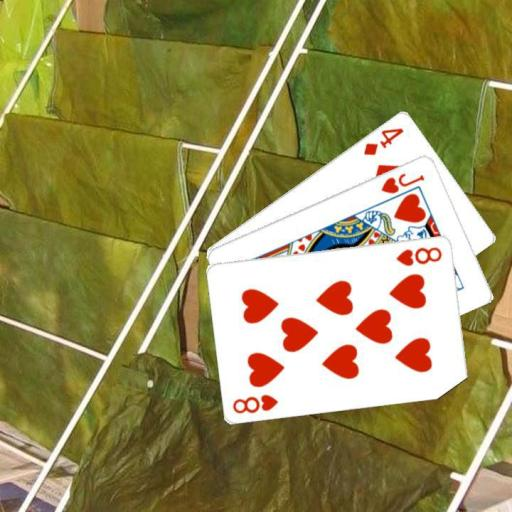4D: (361, 124, 406, 156)
8H: (393, 244, 444, 268), (230, 391, 280, 415)
JH: (378, 169, 426, 195)
